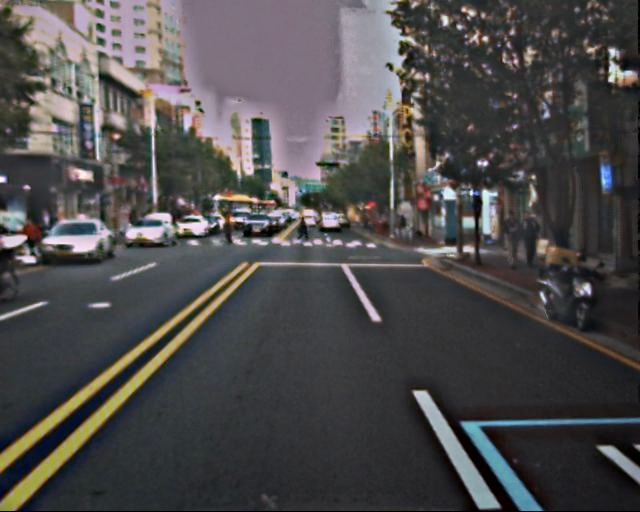person: (496, 209, 522, 273), (517, 211, 541, 270), (297, 214, 310, 246), (223, 218, 235, 247)
